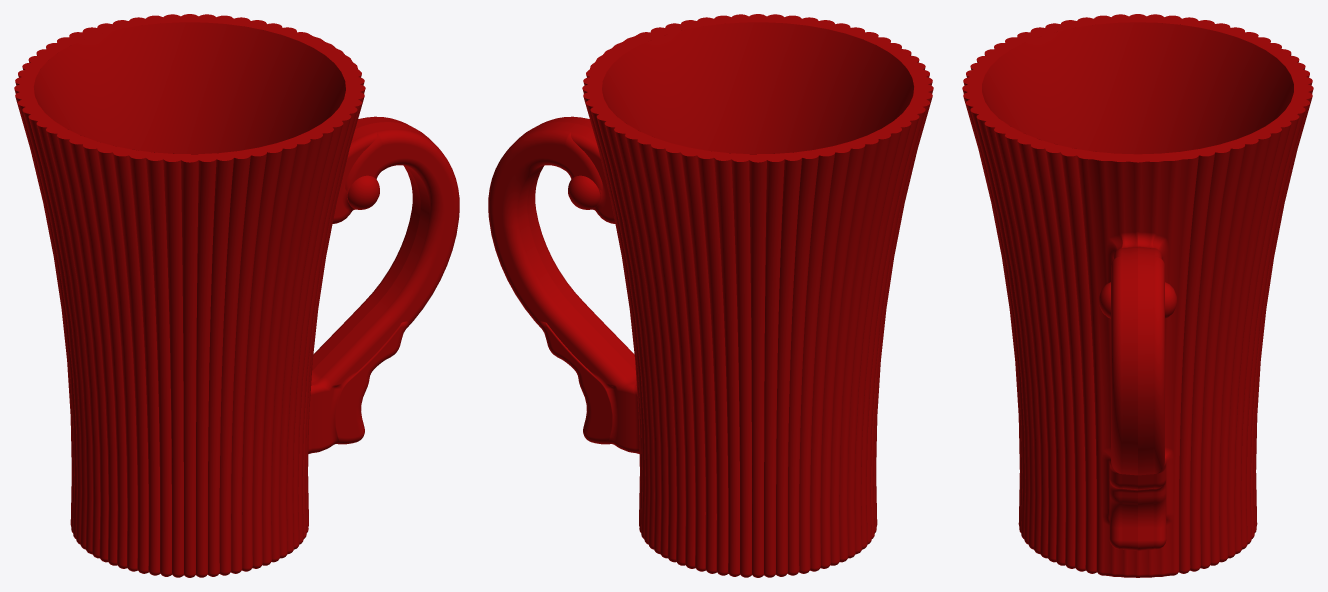
File: Mug1-2.glb
The picture shows the model from 3 angles, left to right: view 1: azimuth 30°, elevation 25°; view 2: azimuth 150°, elevation 25°; view 3: azimuth 270°, elevation 25°; orthographic projection.
Bounding box in the file's own units: 0.0841 × 0.0856 × 0.0618.
